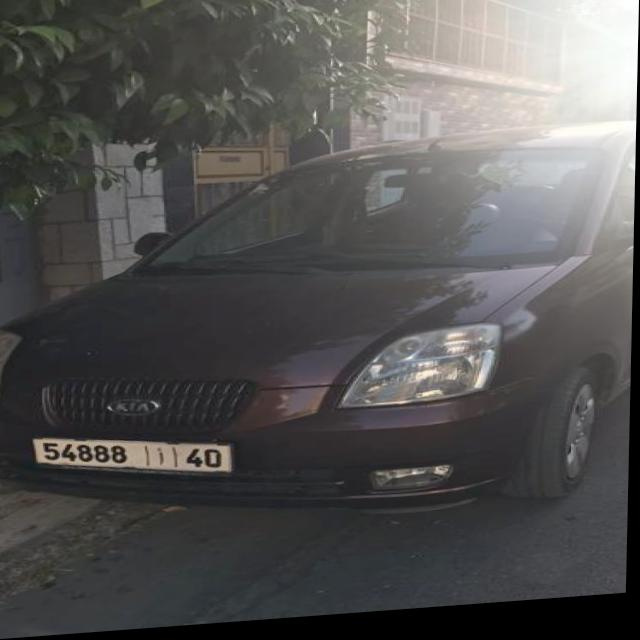License-Plate: (38, 440, 231, 475)
